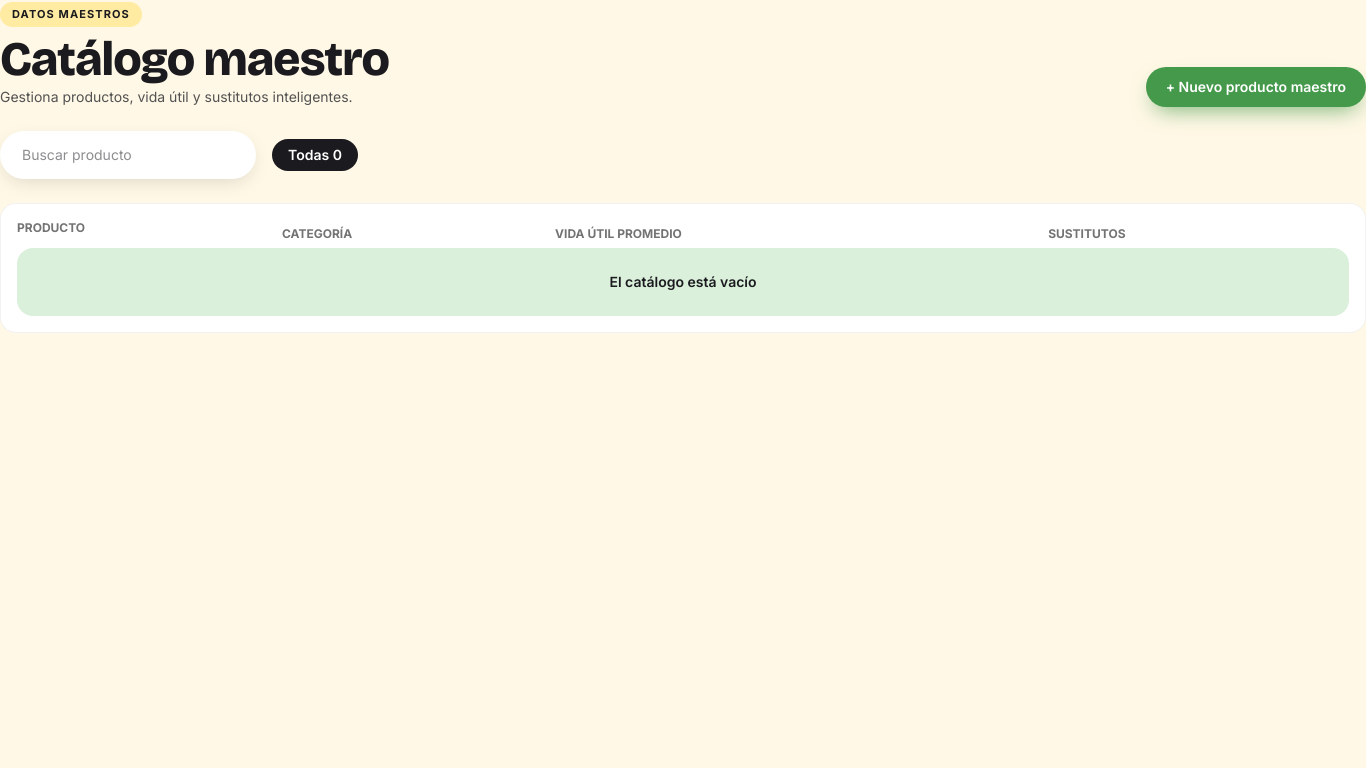
Test case: "+ Nuevo producto maestro" opens the modal
Step 1. Click the button "+ Nuevo producto maestro" → point(1256, 86), box x1=1146 y1=66 x2=1365 y2=106
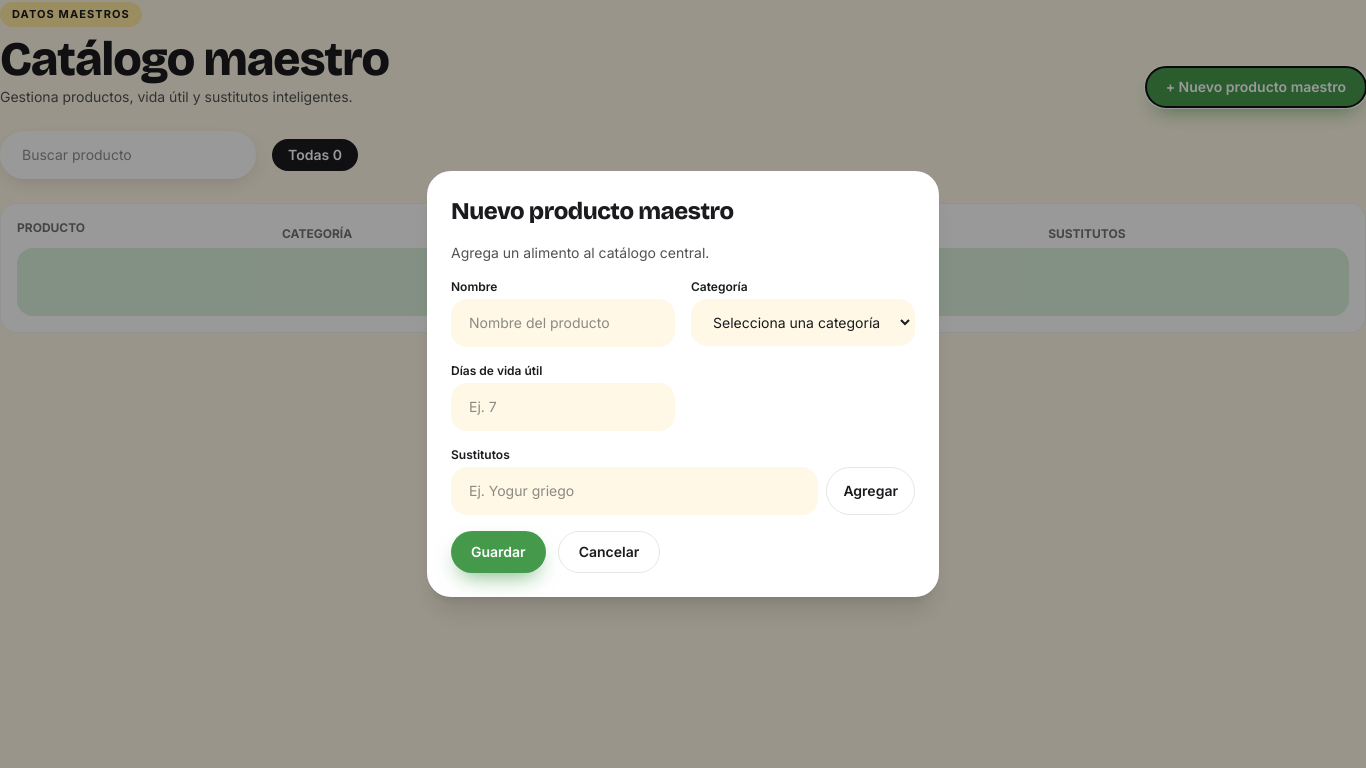
Expected: the dialog is shown, x1=427 y1=171 x2=939 y2=597
